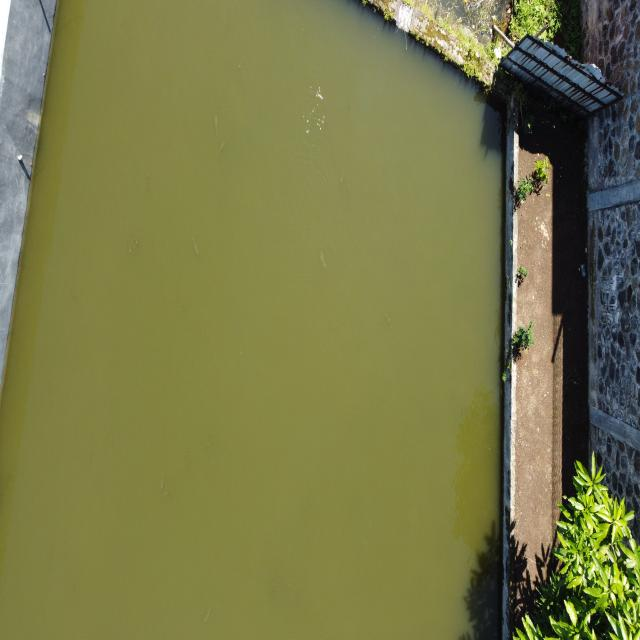Ponds: (1, 1, 526, 640)
